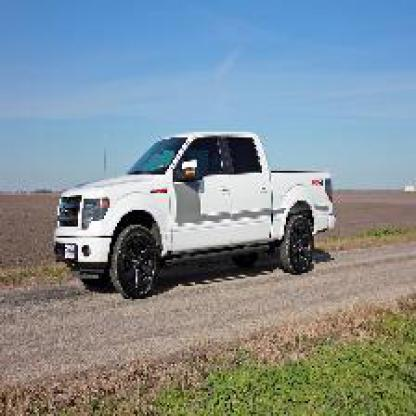not_emergency: (50, 126, 347, 334)
